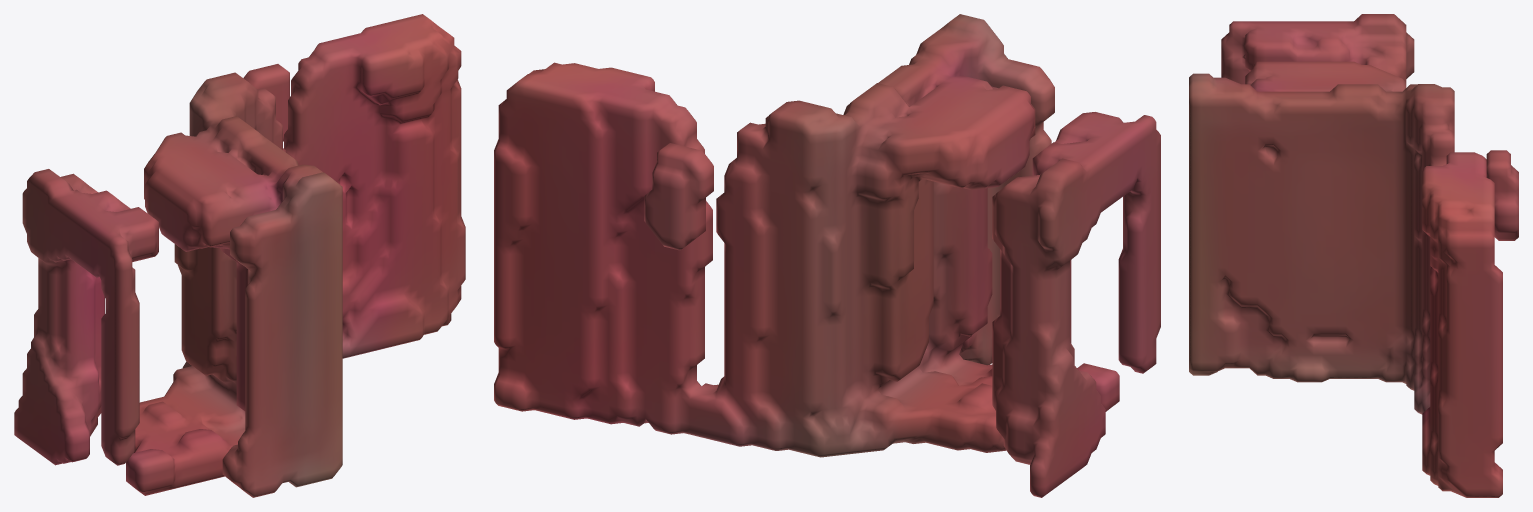
The model's file is A pink color moiled chair has a leg and comfortabl.glb.
3 views of the same model, side by side, from view 1: azimuth 30°, elevation 25°; view 2: azimuth 150°, elevation 25°; view 3: azimuth 270°, elevation 25° (orthographic). The views are drawn at different scales.
Visible parts, largest first — view 1: A pink color moiled chair has a leg and comfortabl; view 2: A pink color moiled chair has a leg and comfortabl; view 3: A pink color moiled chair has a leg and comfortabl.
Part boxes in pixels (bbox=[...]): A pink color moiled chair has a leg and comfortabl: bbox=[14, 14, 465, 497]; A pink color moiled chair has a leg and comfortabl: bbox=[494, 14, 1160, 497]; A pink color moiled chair has a leg and comfortabl: bbox=[1189, 14, 1518, 497].
Size of the model in its own units: 64 by 40 by 41.
